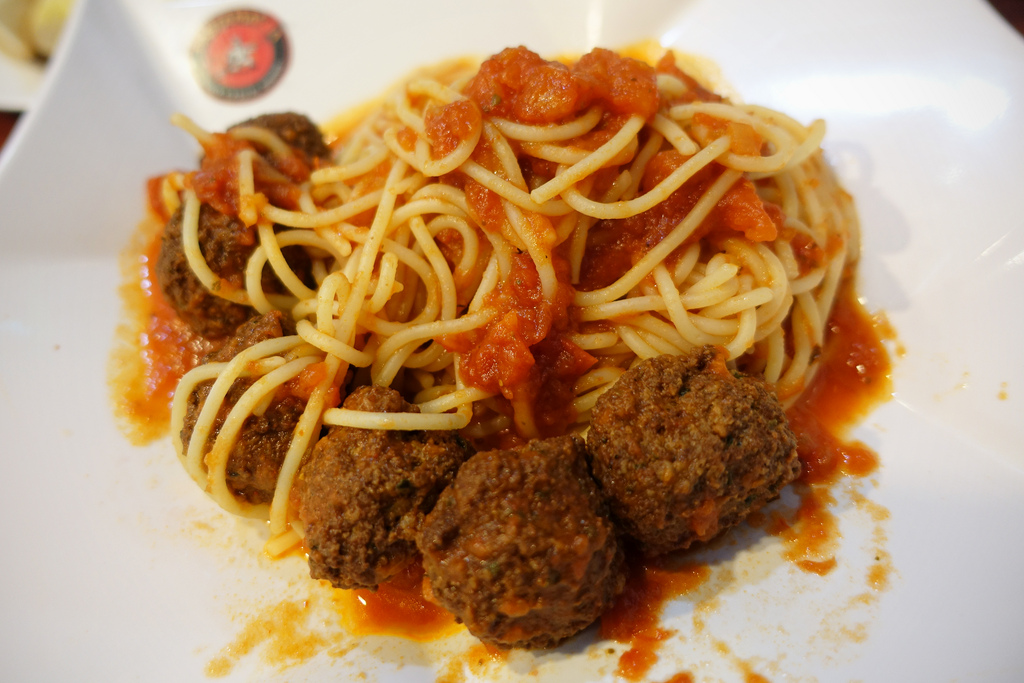meatballs: (324, 415, 606, 600), (588, 395, 804, 533)
plain spaghetti: (311, 115, 837, 346)
